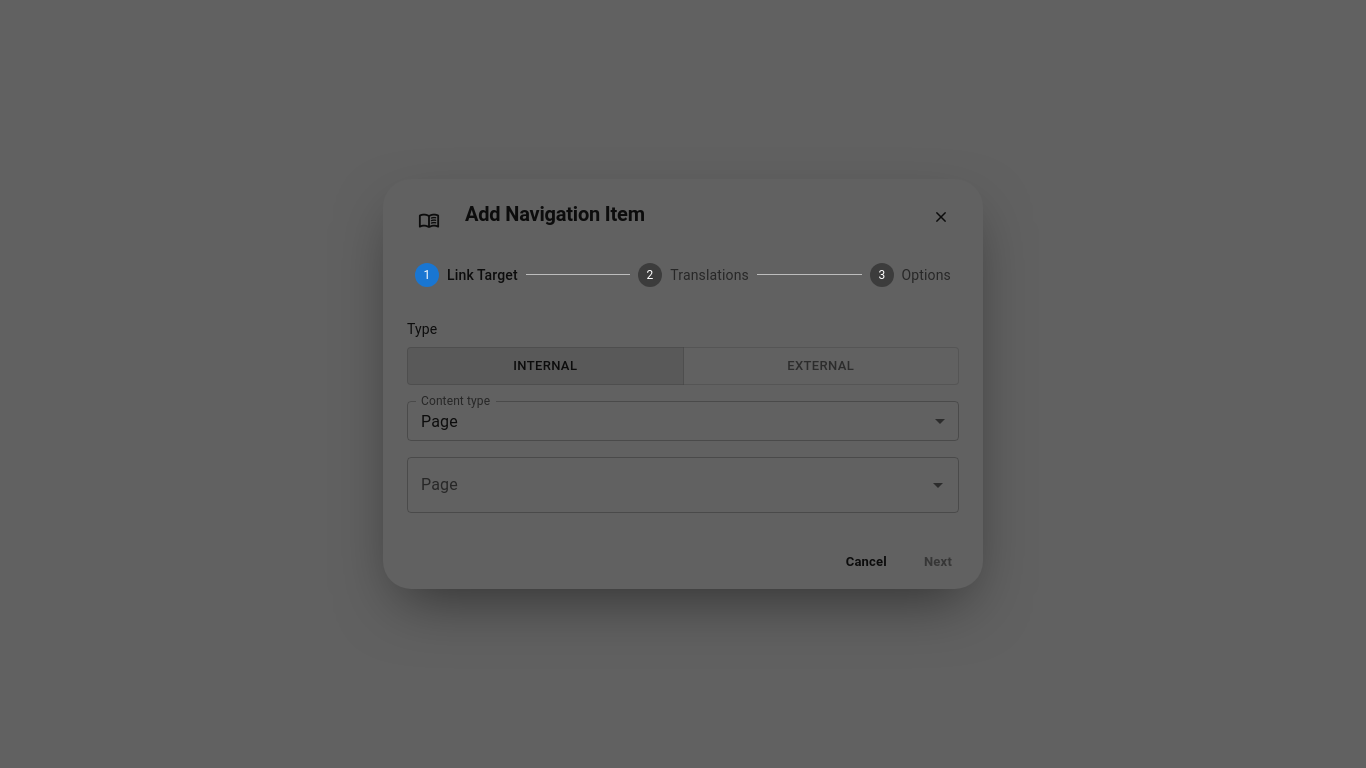
NavigationItemWizard › advances to step 2 after selecting a page
This screenshot has width=1366, height=768.
Note: Select a page from the picker
What coordinates should you click on to do the following:
click the 2nd dropdown labelled "Page"
I would click on:
 (668, 485)
Its box is [416,466,920,504].
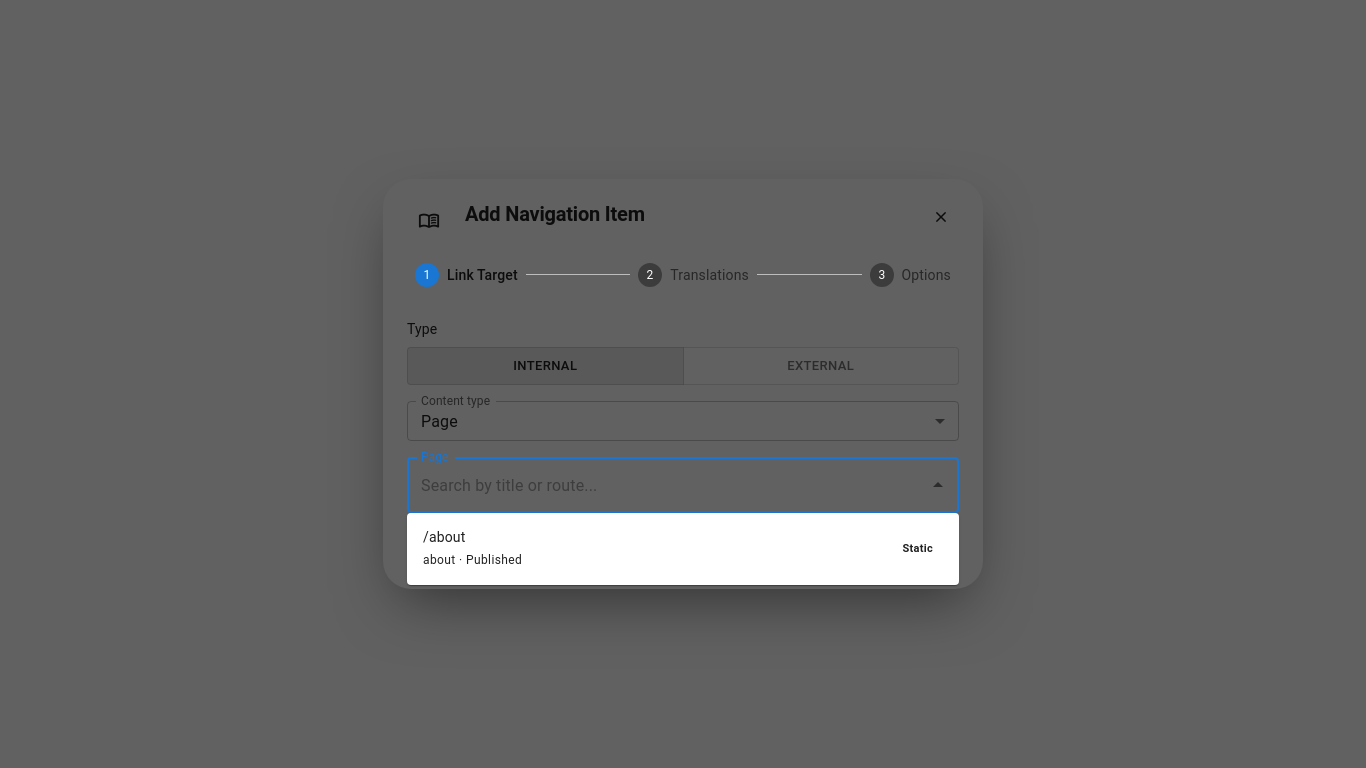
Result: the text "/about" is shown
What coordinates should you click on to do the following:
click the text "/about"
I would click on:
 (444, 537)
Its box is [423,529,465,545].
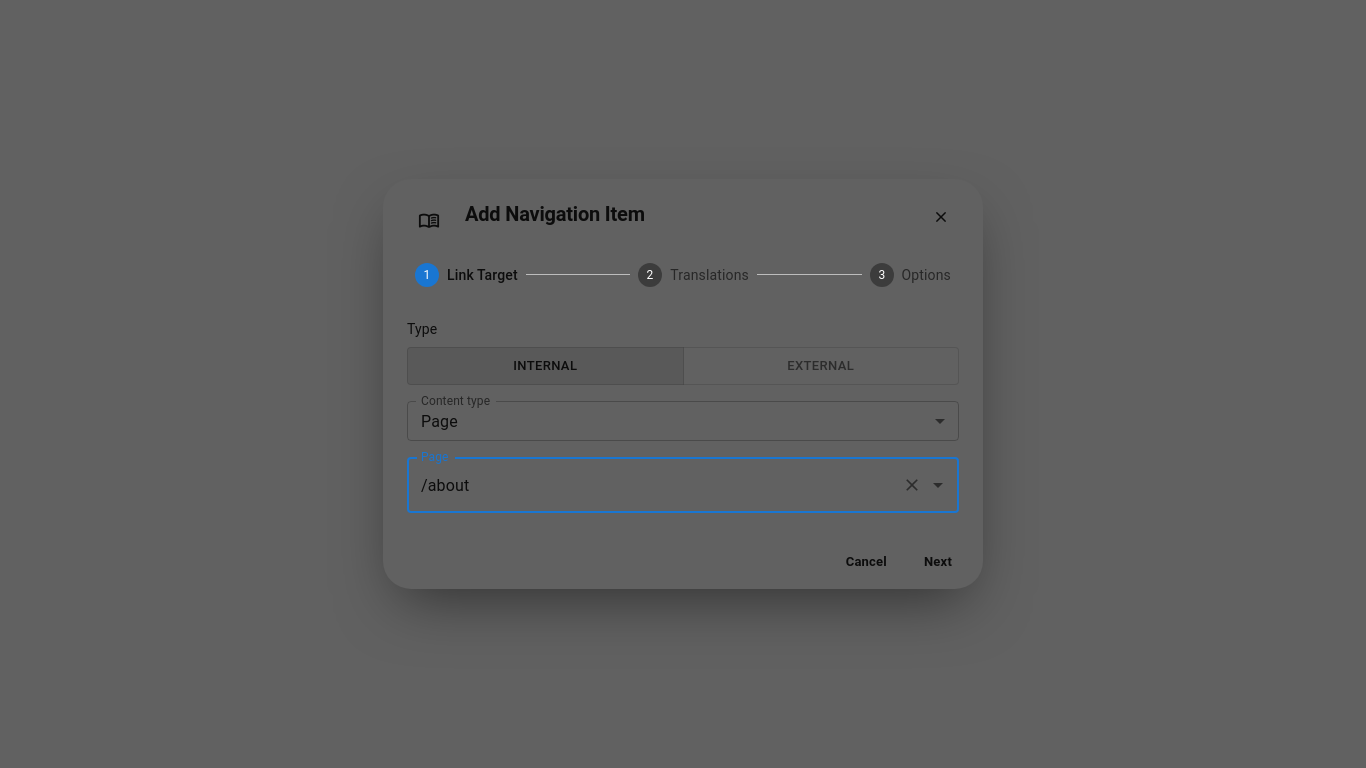
Result: the button with test id "navigation-wizard.btn.next" is enabled
Note: Click Next
What coordinates should you click on to do the following:
click the button with test id "navigation-wizard.btn.next"
I would click on:
 (938, 561)
Its box is [909,545,967,577].
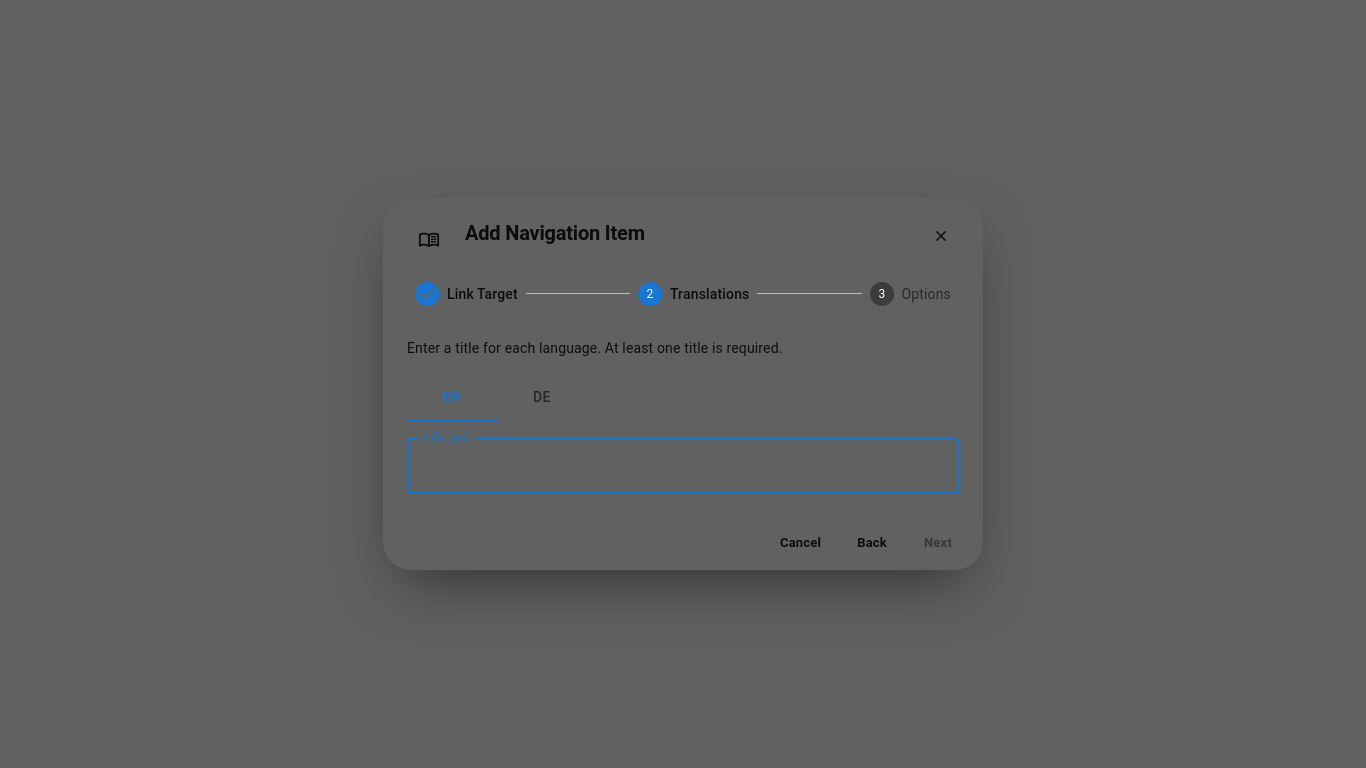
Result: the tab "EN" is shown at [407,374,497,422]
